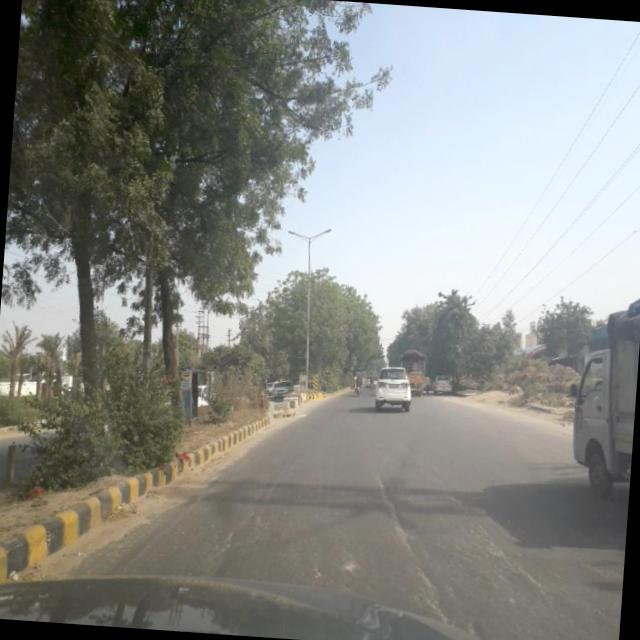pothole: (350, 456, 468, 624), (452, 478, 553, 626)
